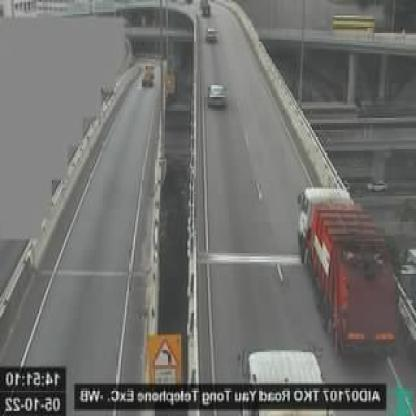Car: (208, 83, 226, 108), (207, 28, 218, 43)
Truck: (299, 184, 398, 360)
